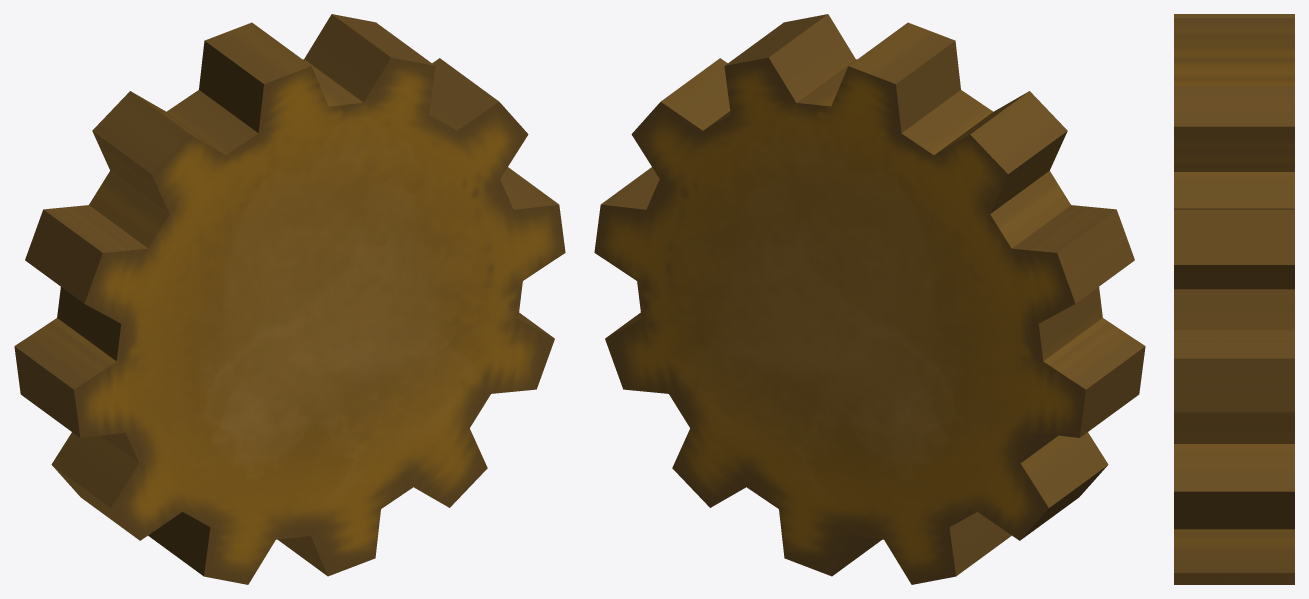
The model's file is linkage_gear.glb.
3 renders of one model, left to right at view 1: azimuth 30°, elevation 25°; view 2: azimuth 150°, elevation 25°; view 3: azimuth 270°, elevation 25°, orthographic.
Visible parts, largest first — view 1: LinkageGear; view 2: LinkageGear; view 3: LinkageGear.
Boxes of the visible parts, x1=… form: LinkageGear: x1=14, y1=14, x2=565, y2=584; LinkageGear: x1=594, y1=14, x2=1145, y2=584; LinkageGear: x1=1174, y1=14, x2=1294, y2=584.
Bounding box in the file's own units: 0.2382 × 0.2382 × 0.05.
1 material, 1 textured.
